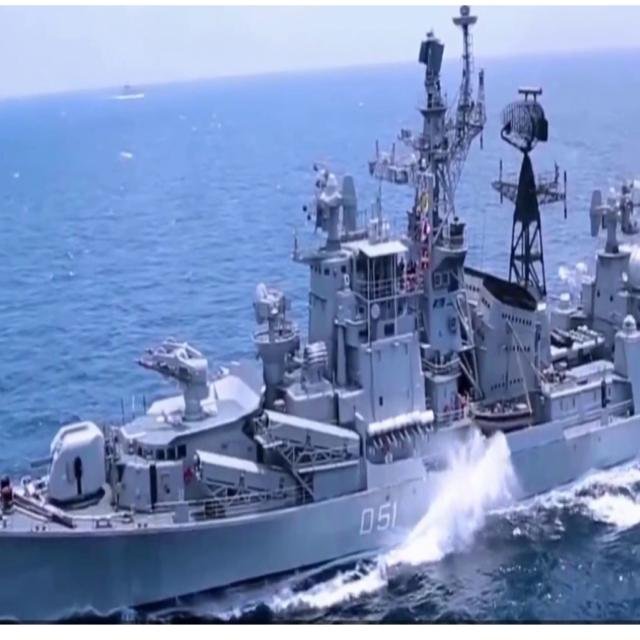OCR: (354, 494, 401, 544)
